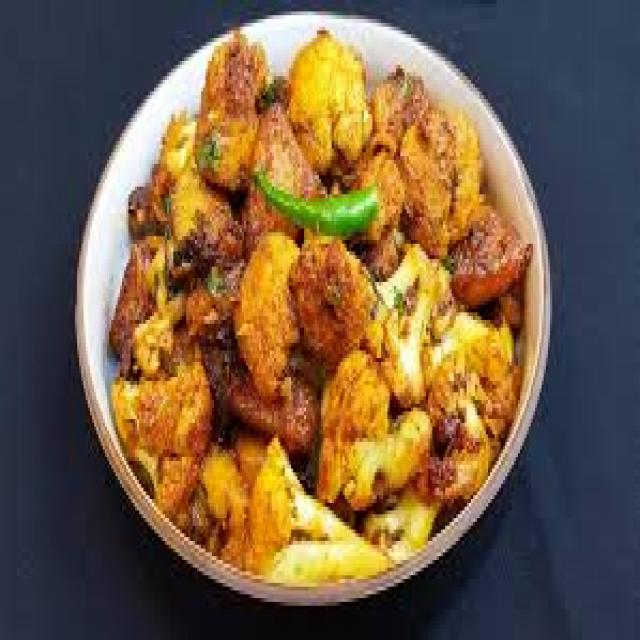Aloo Gobi: (140, 243, 448, 534)
